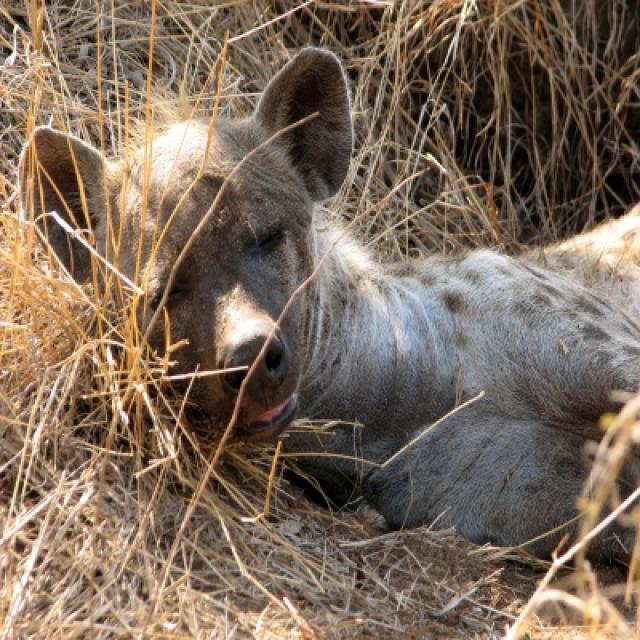hyena: (34, 46, 638, 557)
